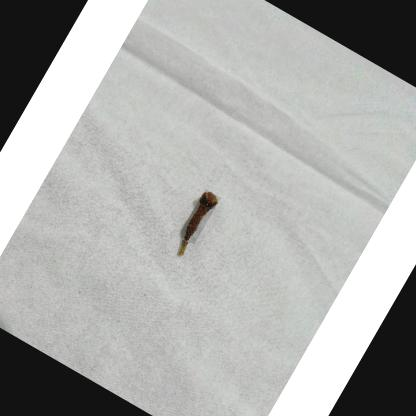sedang: (184, 192, 217, 242)
